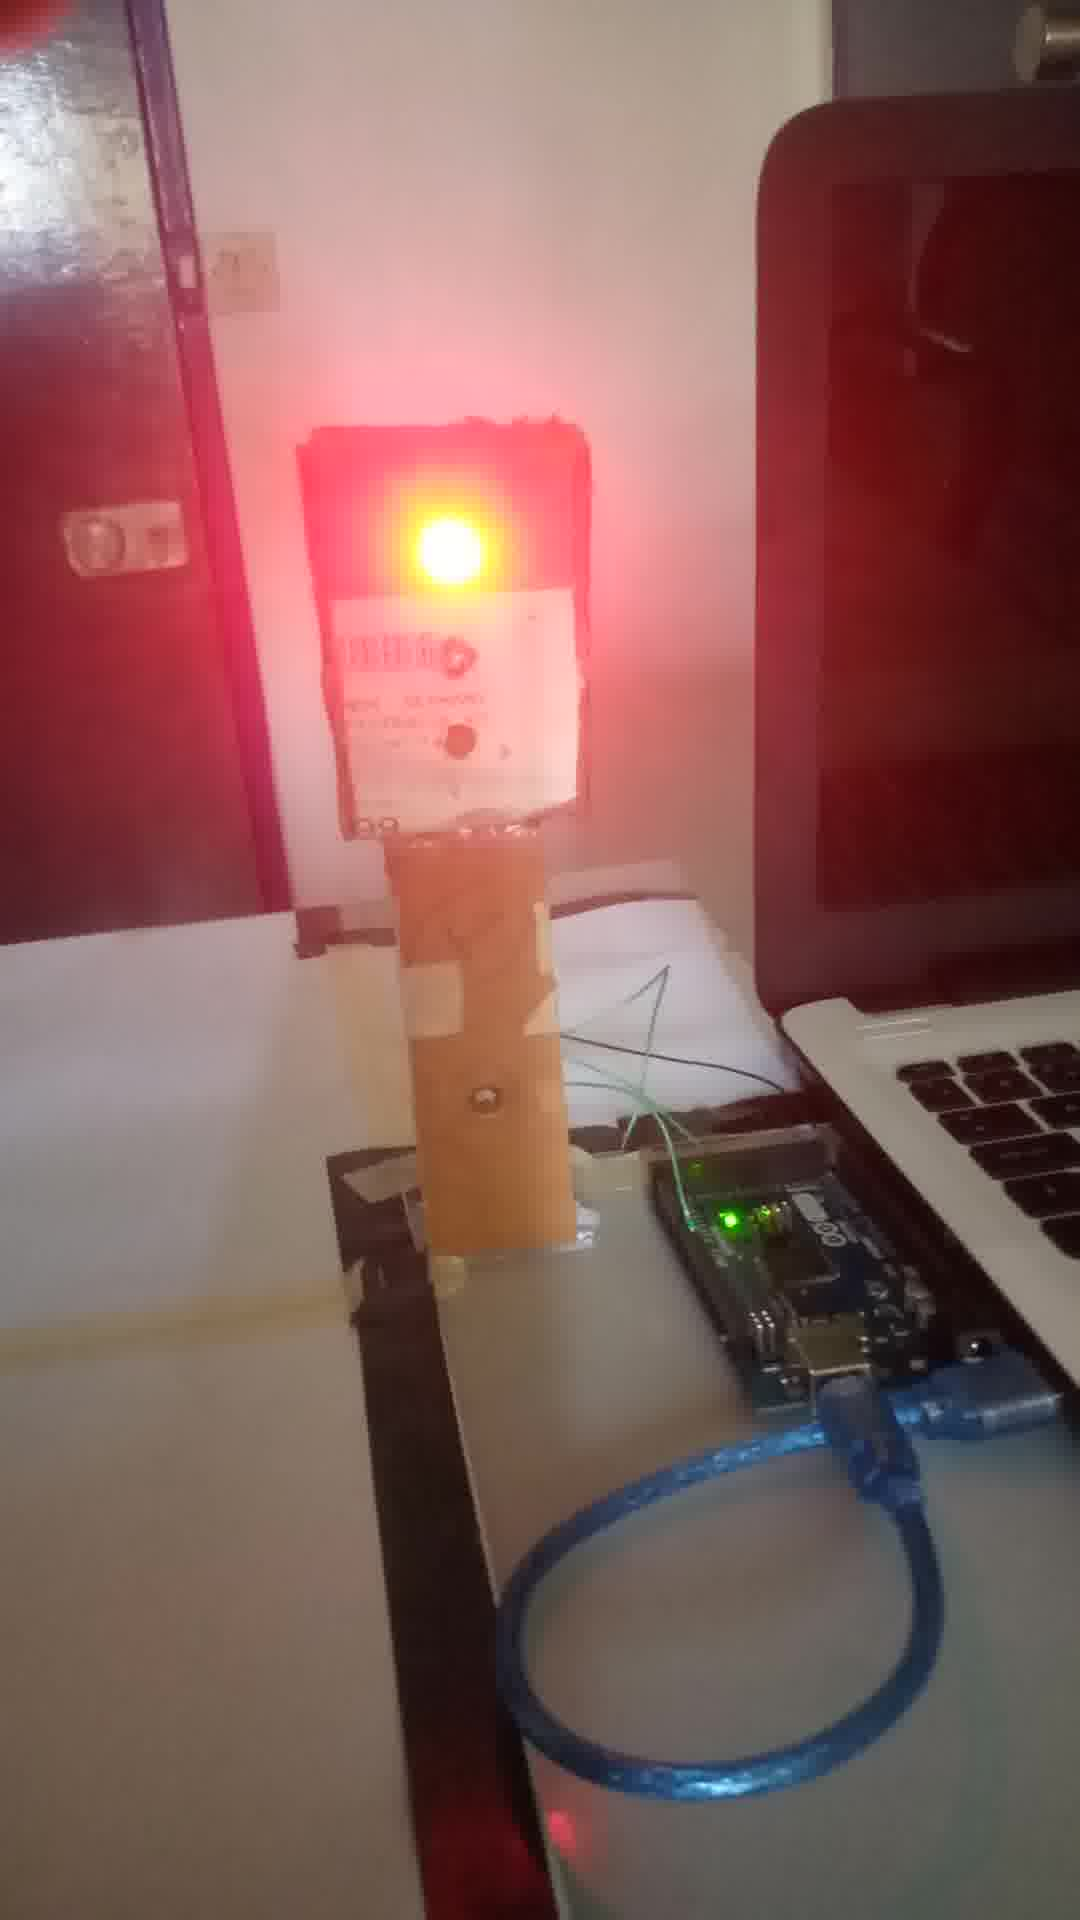red: (305, 429, 601, 829)
